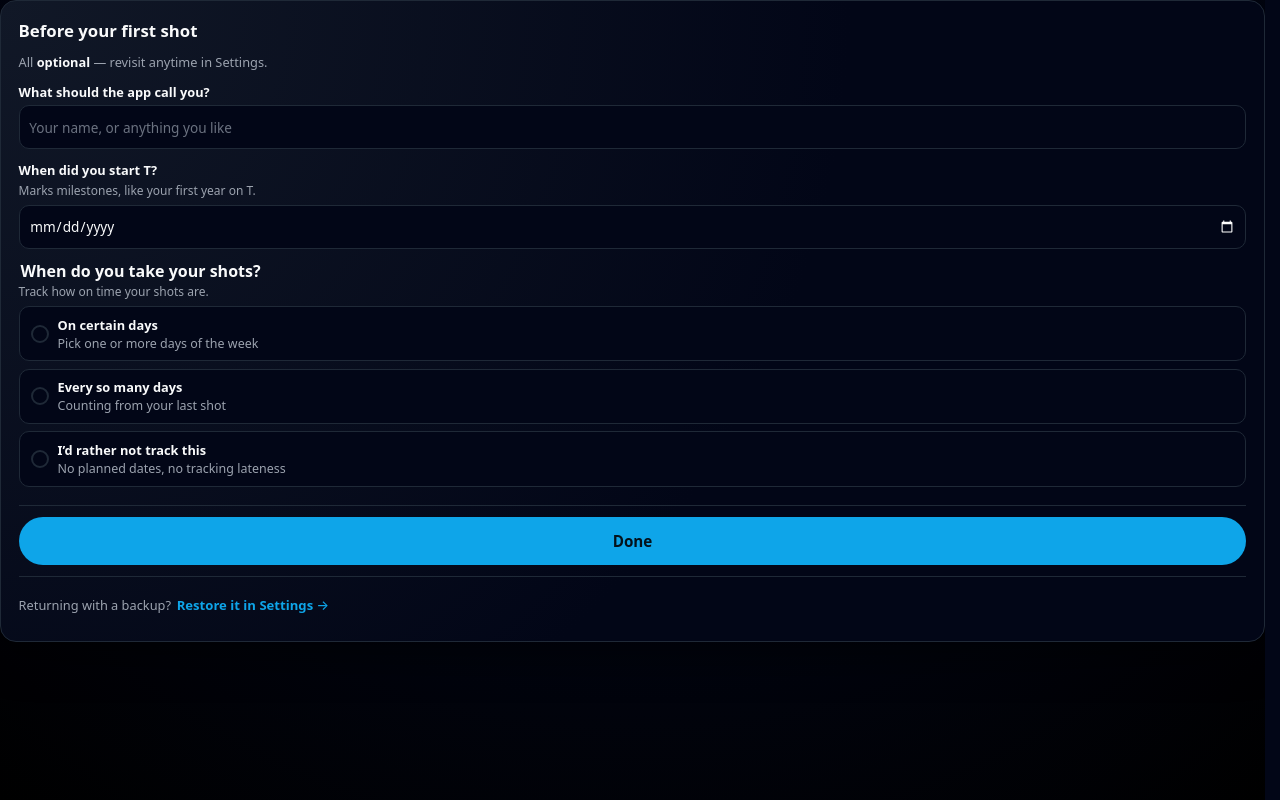
it: FirstShotCard — the start date › removes a date that was entered but never committed
The width and height of the screenshot is (1280, 800).
Type "2025-06-01" into the date field labelled "When did you start T?" at (632, 227), box left=19, top=205, right=1246, bottom=249
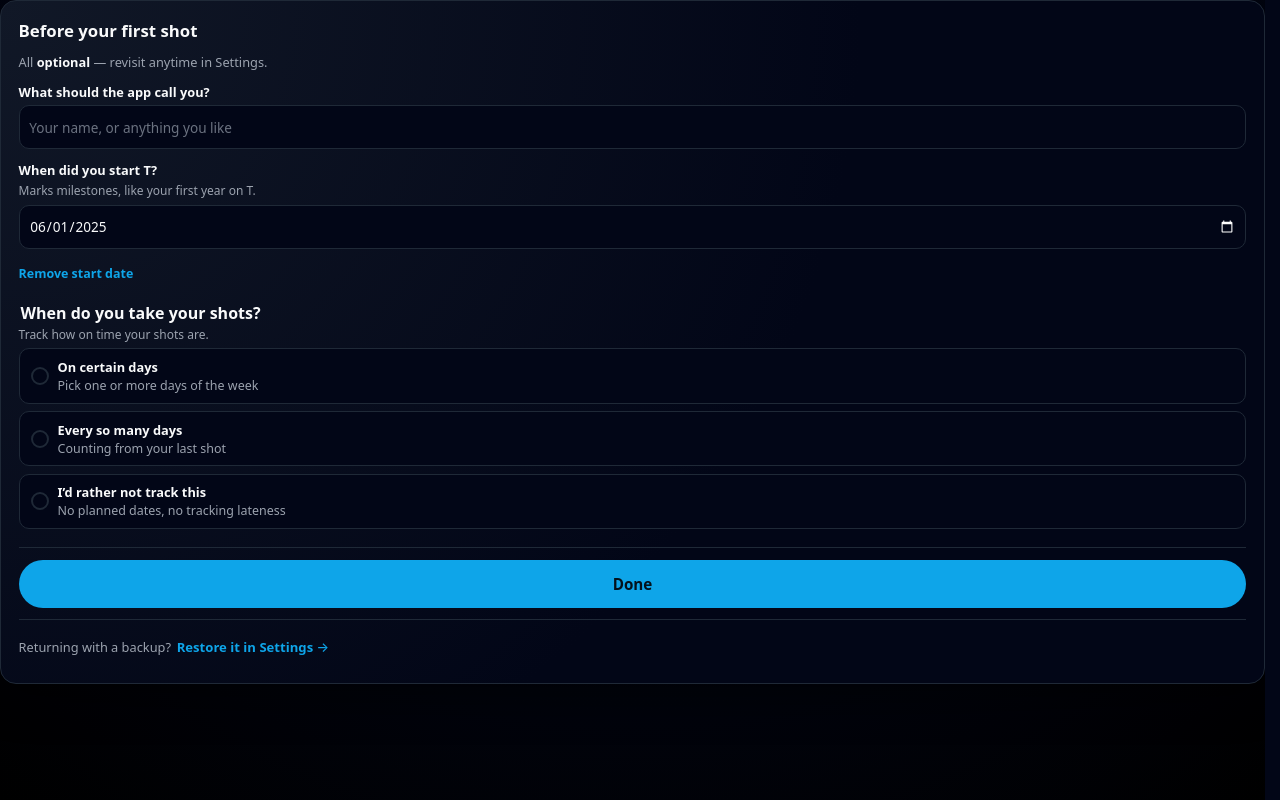
Click the button "Remove start date" at (76, 273), box left=19, top=255, right=133, bottom=291
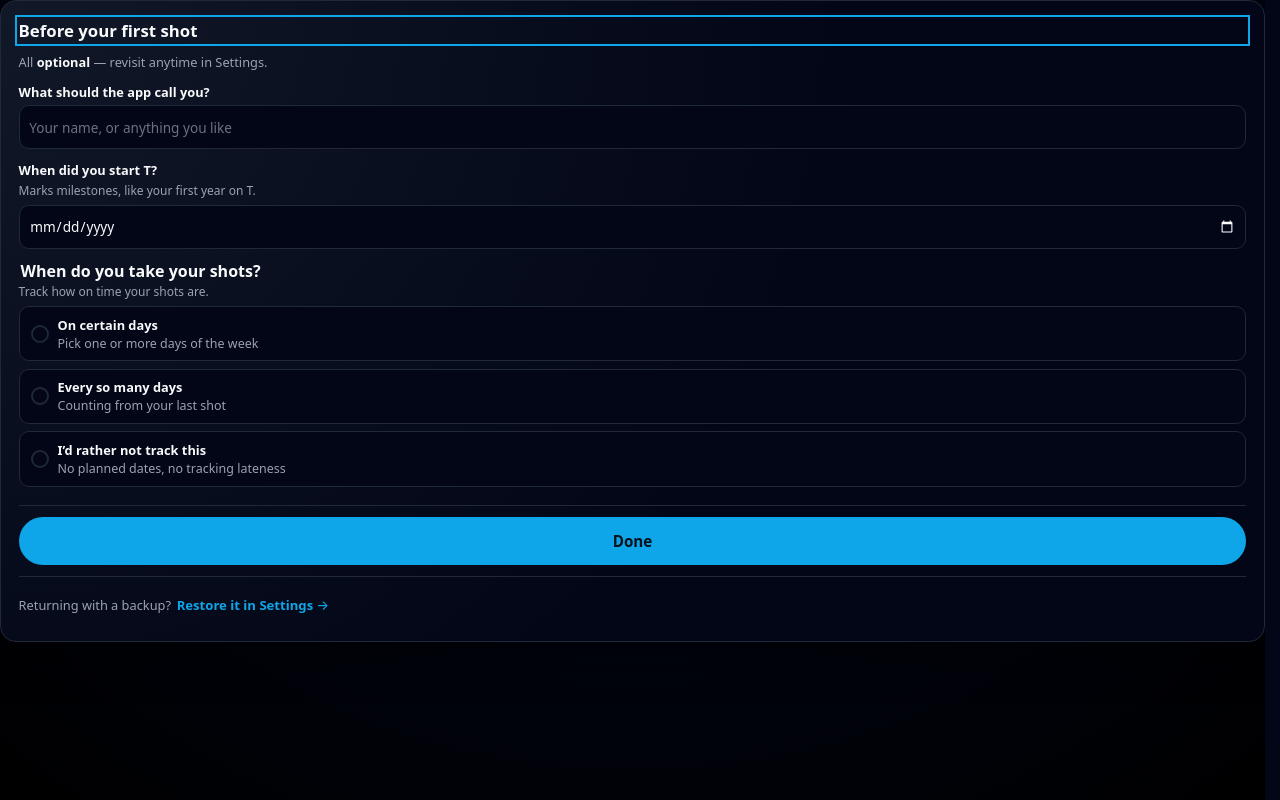
Expected: the date field labelled "When did you start T?" is empty, left=19, top=205, right=1246, bottom=249
Expected: the button "Remove start date" is gone
